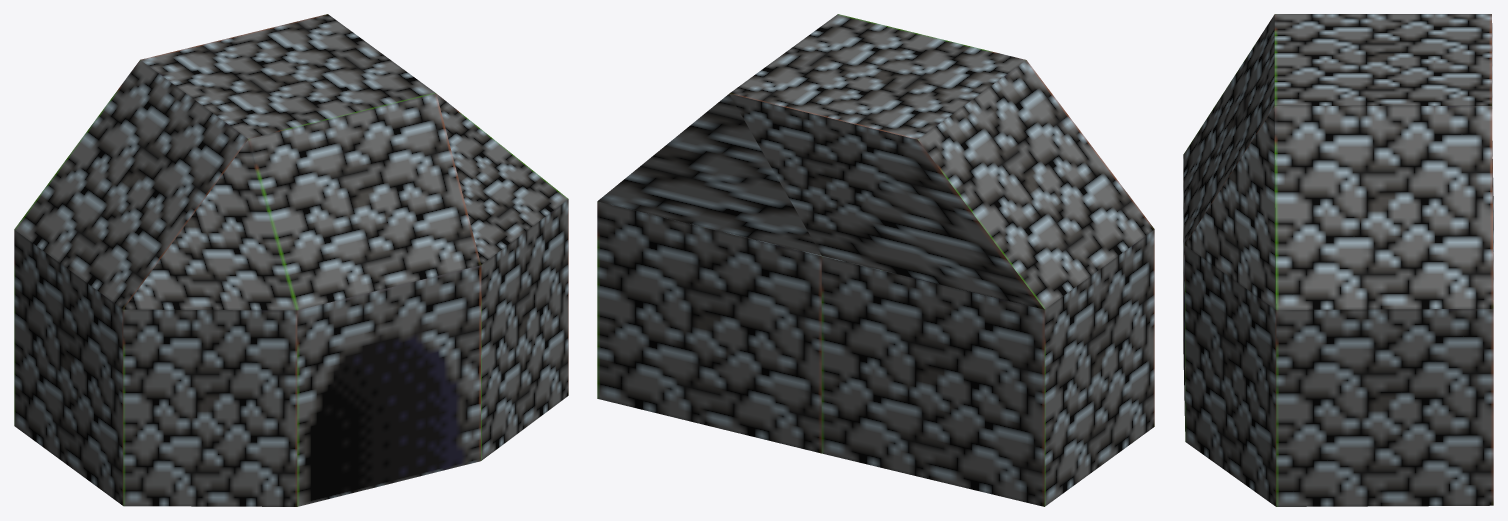
The model's file is Cave.fbx.
3 renders of one model, left to right at view 1: azimuth 30°, elevation 25°; view 2: azimuth 150°, elevation 25°; view 3: azimuth 270°, elevation 25°, orthographic.
Parts seen in each view (by area): view 1: Cube; view 2: Cube; view 3: Cube.
Part boxes in pixels (left/top/right/bottom): Cube: left=14, top=14, right=568, bottom=506; Cube: left=597, top=14, right=1154, bottom=506; Cube: left=1183, top=14, right=1493, bottom=506.
Size of the model in its own units: 238 by 171 by 143.
